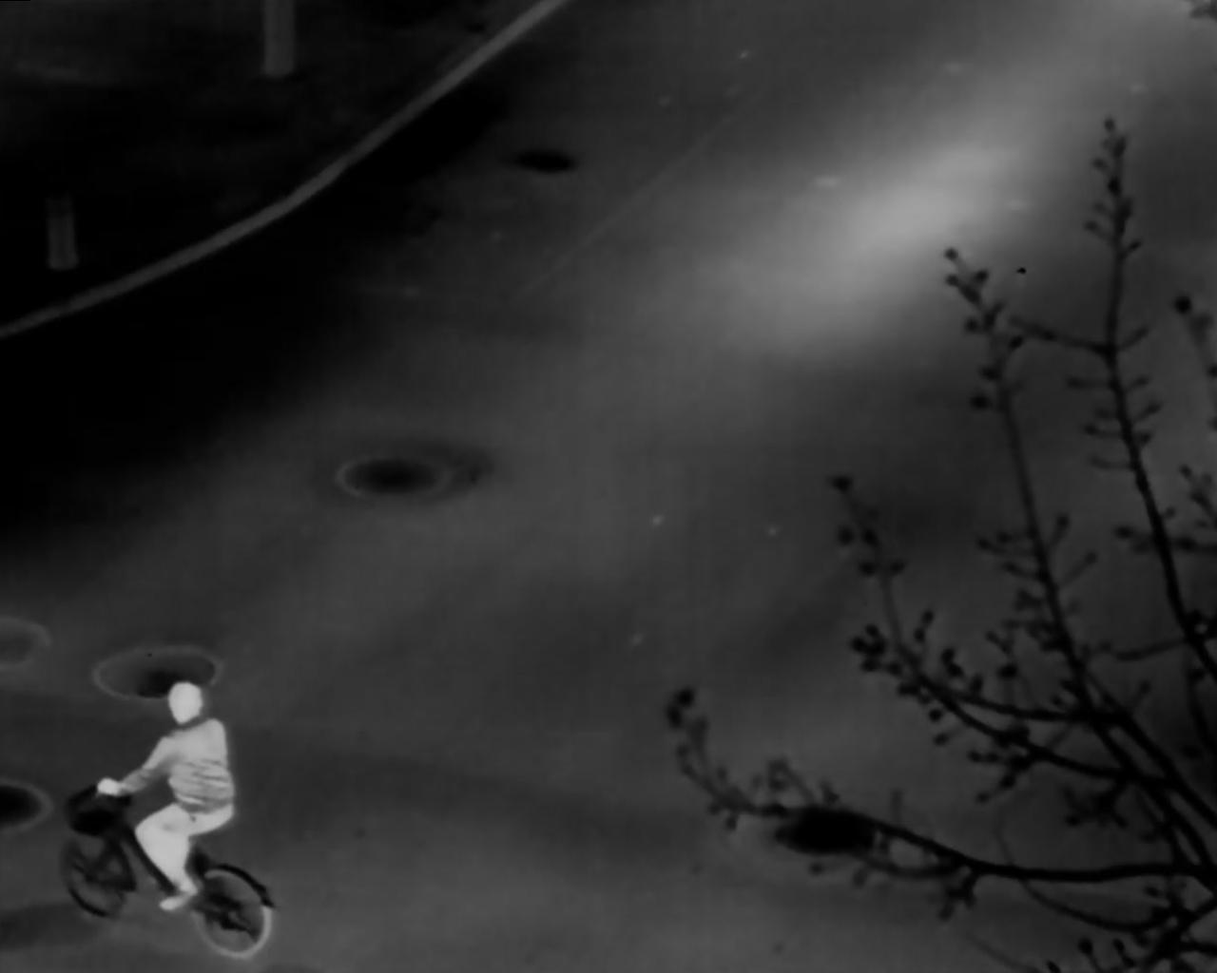person: (94, 680, 237, 915)
